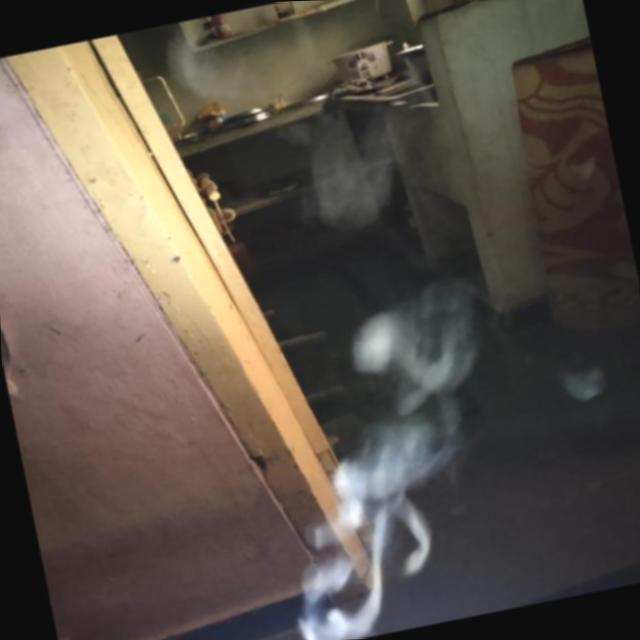smoke: (240, 303, 493, 640)
